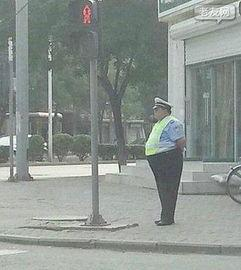up: (142, 94, 186, 224)
